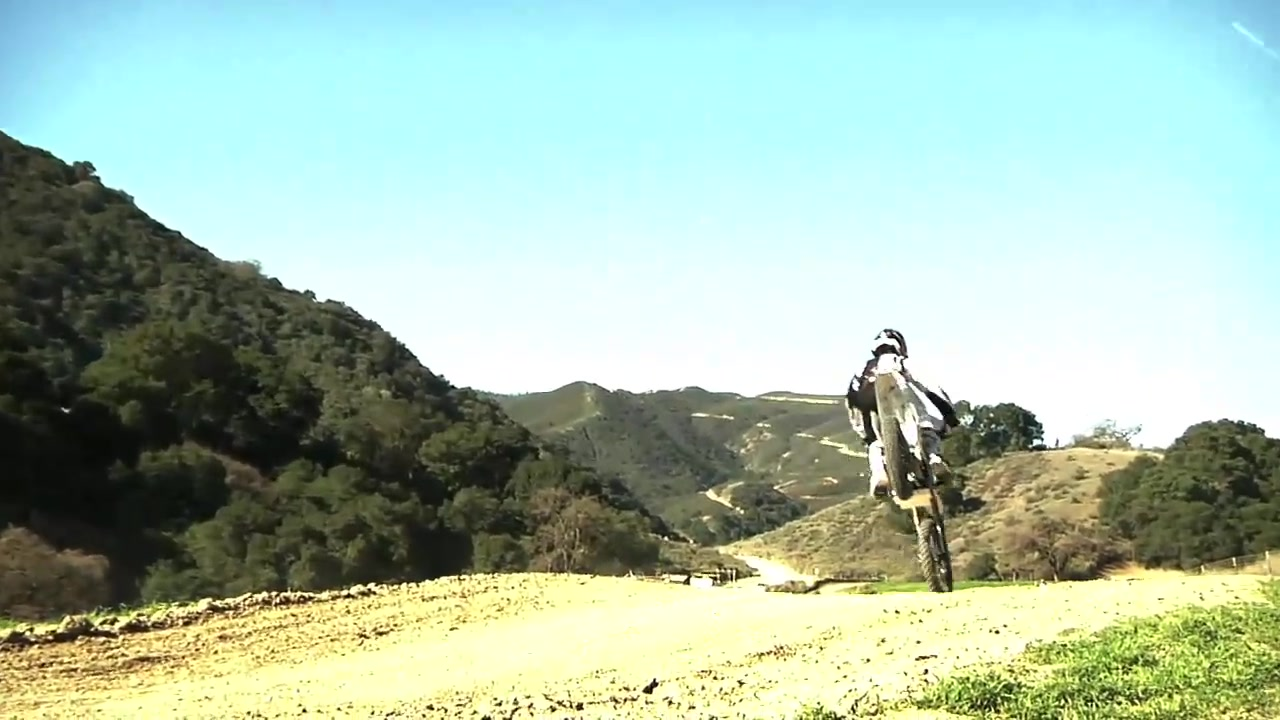motorbike: (871, 377, 960, 593)
